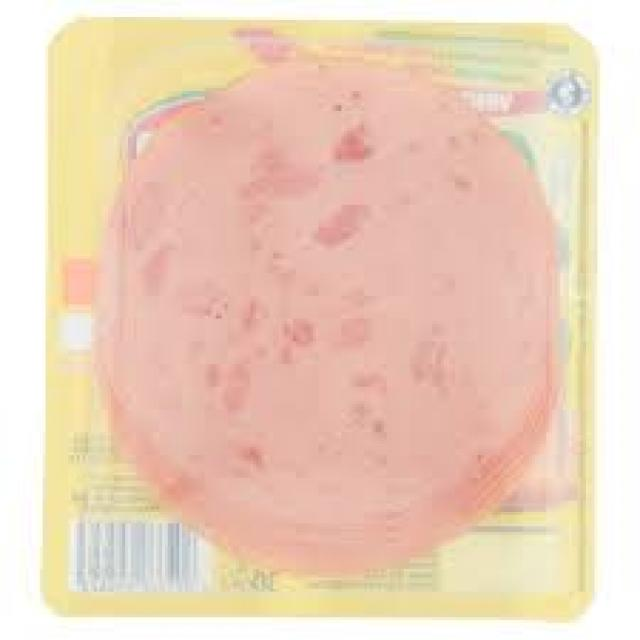ham: (45, 12, 593, 623)
